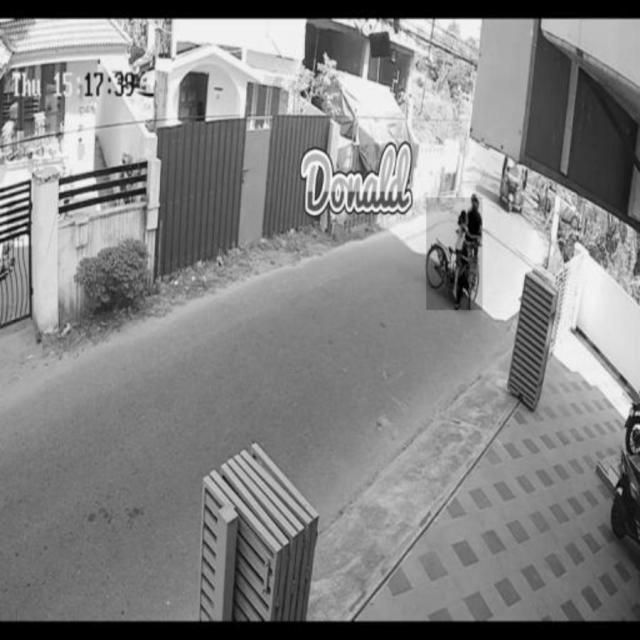accident: (427, 198, 483, 310)
